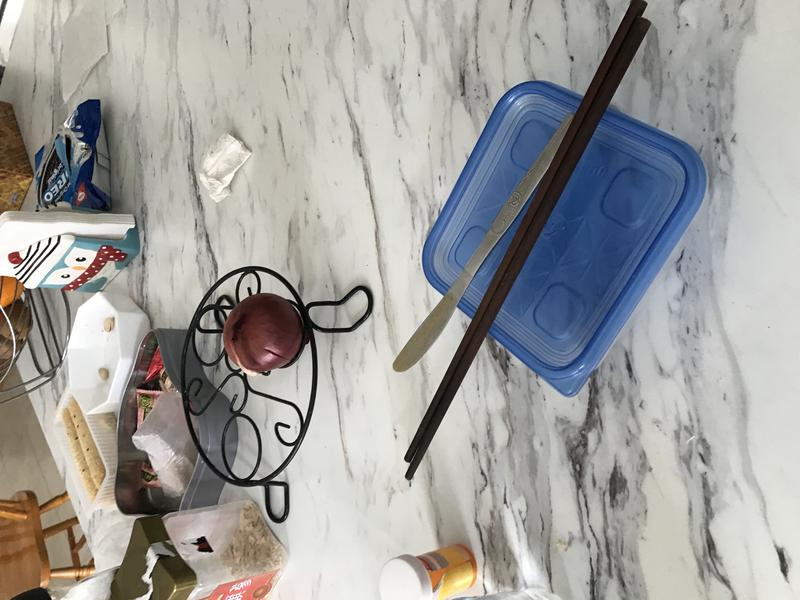purple_onion: (221, 288, 310, 380)
